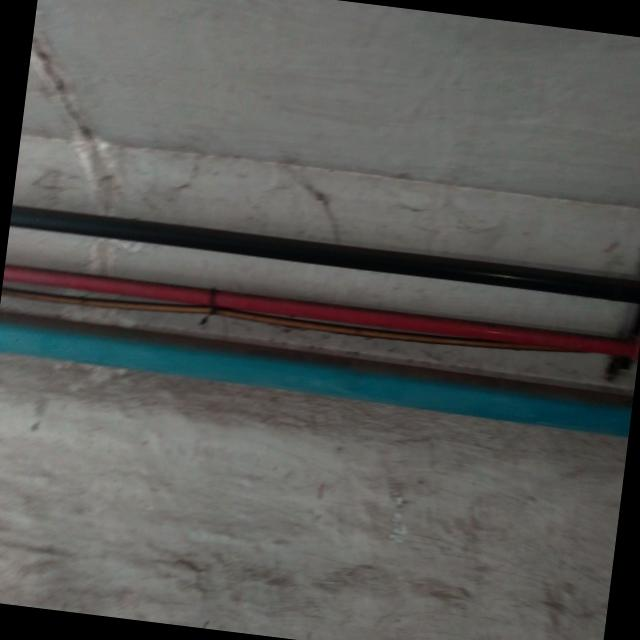gas: (0, 314, 633, 437), (2, 257, 640, 366), (9, 203, 640, 301)
